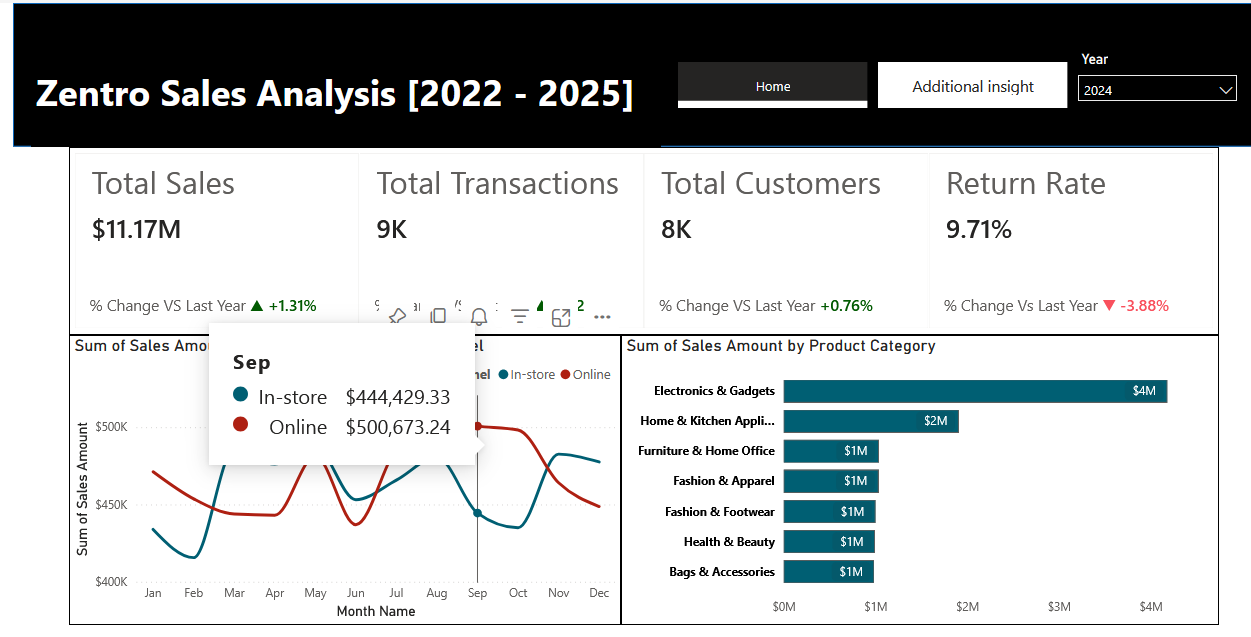

Layout of this report page (visuals, bound fields, positions):
{"tool":"powerbi","page":{"name":"Home","canvas":[1280,720],"ordinal":0},"visuals":[{"type":"shape","box":[0,0,1280.8,147.3],"z":0},{"type":"cardVisual","fields":{"Data":["_Measure.Total Sales","_Measure.Total Transactions","_Measure.Total Customers","_Measure.Return Rate"]},"box":[56.7,147.3,1180.4,192.7],"z":1000},{"type":"slicer","fields":{"Values":["DateTable.Year"]},"box":[1081.7,41.7,185,66.7],"z":2000},{"type":"lineChart","fields":{"Y":["Sum(Zentro.Sales Amount)"],"Series":["Zentro.SalesChannel"],"Category":["DateTable.Month Name"]},"box":[56.7,340,566.7,297.9],"z":3000},{"type":"barChart","fields":{"Y":["Sum(Zentro.Sales Amount)"],"Category":["Zentro.Product Category"]},"box":[623.4,340,613.7,297.9],"z":4000},{"type":"pageNavigator","box":[681.7,60,400,48.3],"z":5000},{"type":"textbox","box":[17.8,59.9,646.1,87.4],"z":6000}]}

Visuals, with their boxes on the page's 1280x720 design canvas (x1, y1, x2, y2). These are canvas units, not pixel positions in the 1251x637 screenshot, which may show the page scaled, cropped or inside an application window:
shape: left=0, top=0, right=1281, bottom=147
cardVisual - _Measure.Total Sales x _Measure.Total Transactions: left=57, top=147, right=1237, bottom=340
slicer - DateTable.Year: left=1082, top=42, right=1267, bottom=108
lineChart - Sum(Zentro.Sales Amount) x Zentro.SalesChannel: left=57, top=340, right=623, bottom=638
barChart - Sum(Zentro.Sales Amount) x Zentro.Product Category: left=623, top=340, right=1237, bottom=638
pageNavigator: left=682, top=60, right=1082, bottom=108
textbox: left=18, top=60, right=664, bottom=147
